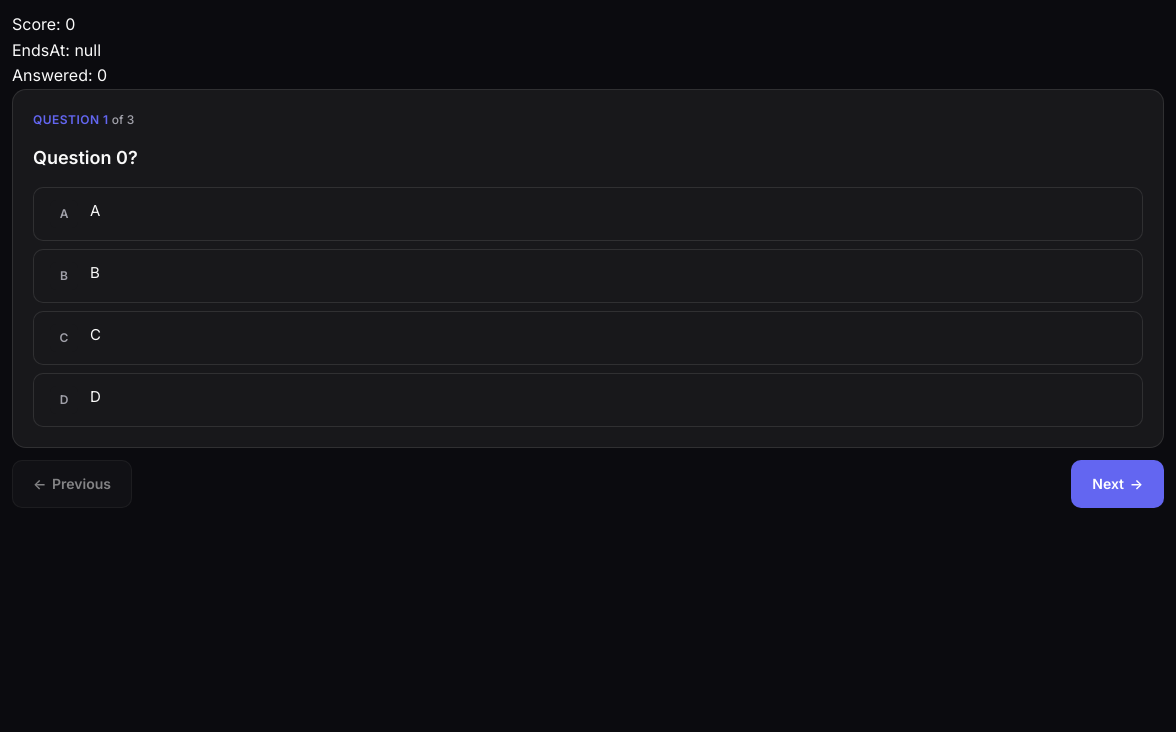
Test: useQuiz › keeps the answer and the verdict across navigation
Check: the element showing "A A B B C C D D" is shown, box [33, 187, 1143, 427]
Click the radio button labelled "B B".
click(64, 276)  # box [33, 249, 1143, 303]
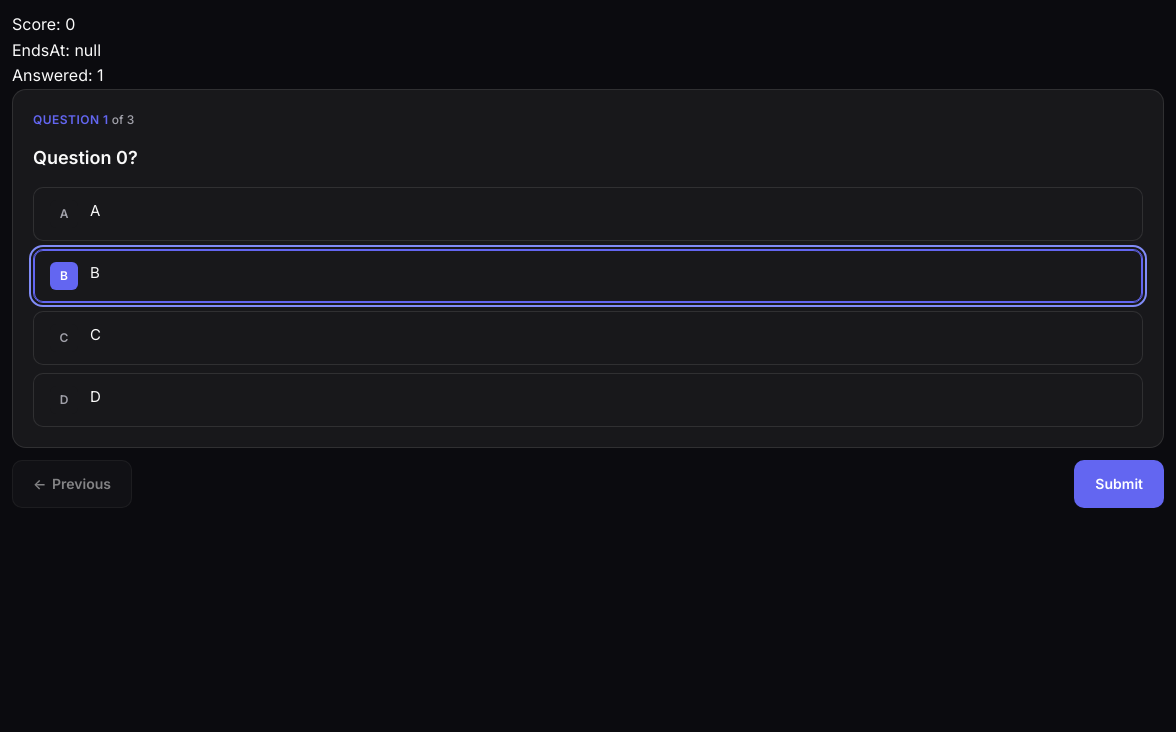
Click the button "Submit".
click(1119, 484)  # box [1074, 460, 1164, 508]
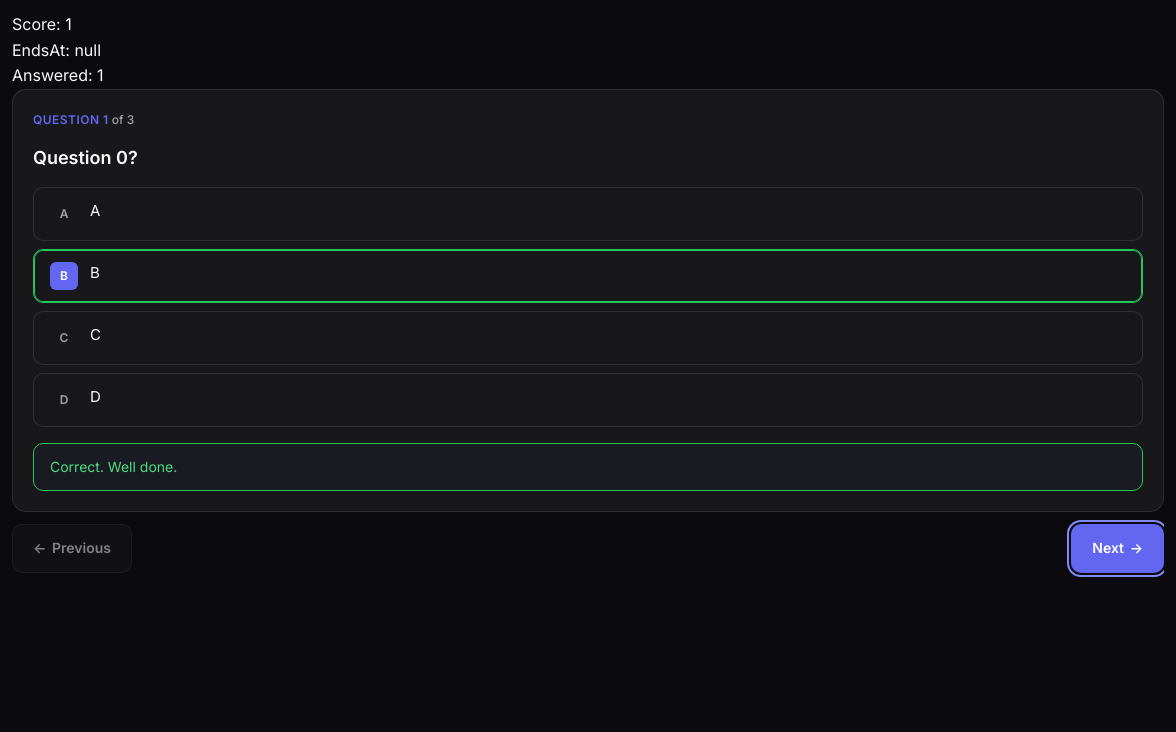
Click the button "Next →".
click(1118, 549)  # box [1071, 524, 1164, 573]
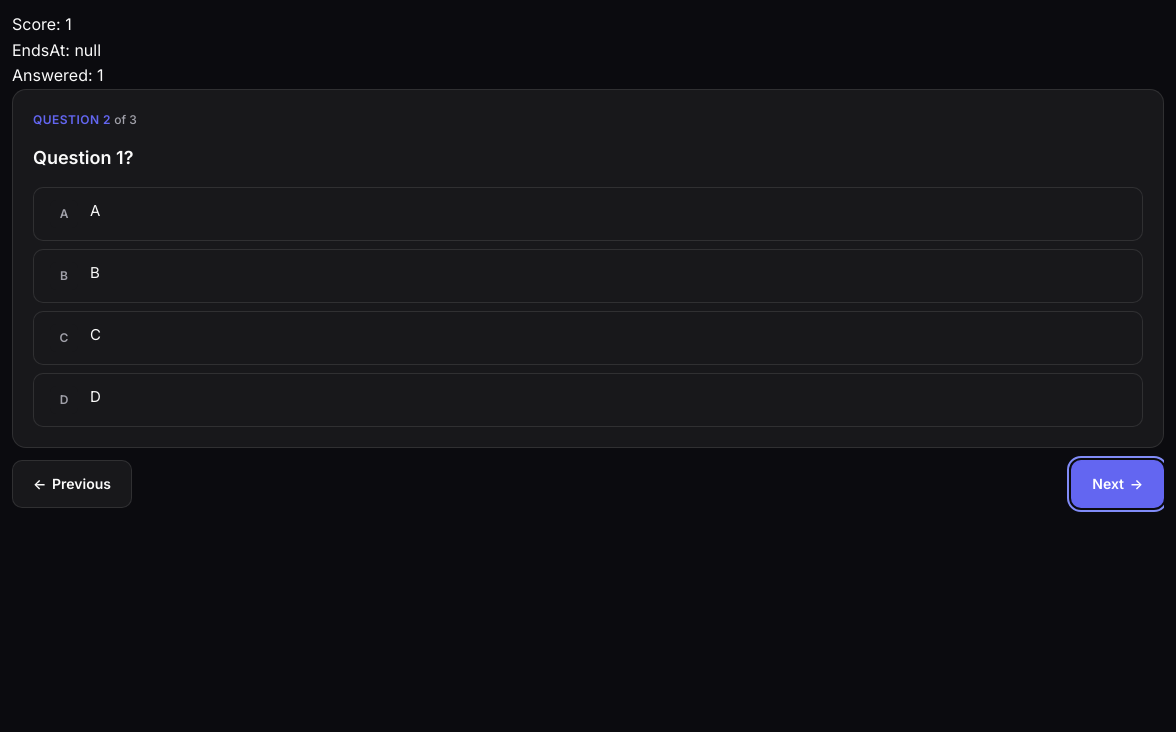
Check: the message "Correct. Well done." is gone
Click the button "← Previous".
click(72, 484)  # box [12, 460, 132, 508]
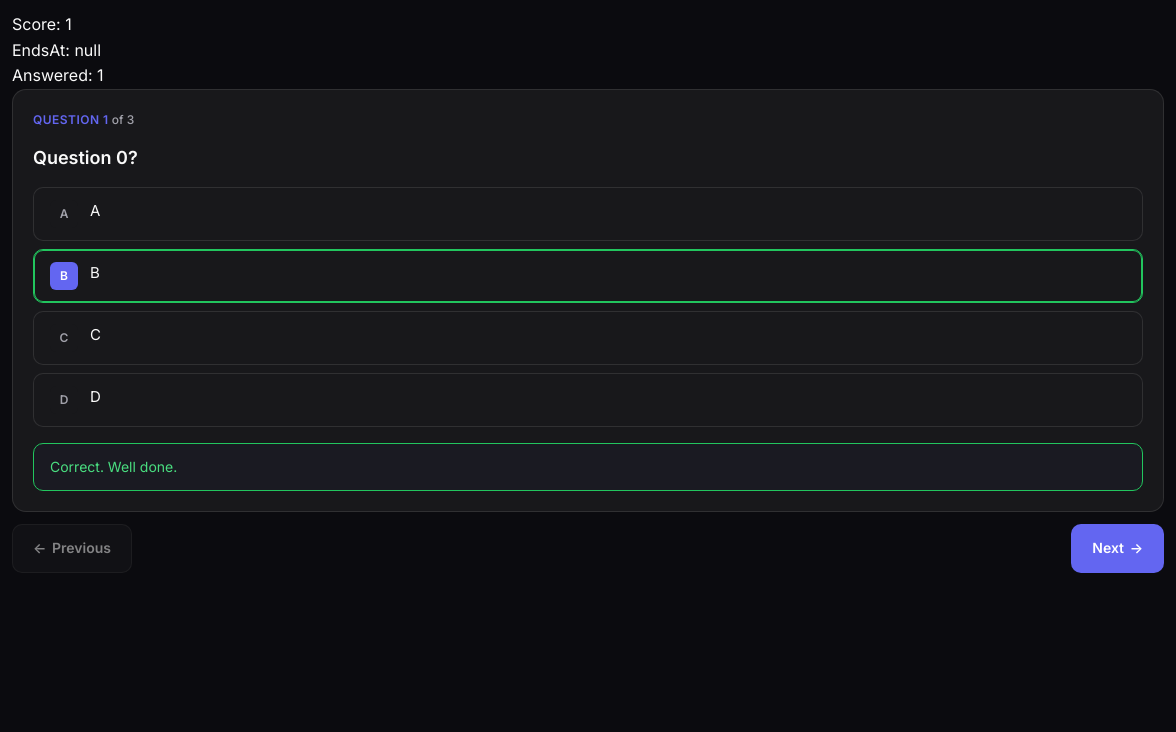
Check: the message does not show "Incorrect", box [33, 443, 1143, 492]
Check: the radio button labelled "B B" is checked, box [33, 249, 1143, 303]
Check: the message shows "Correct", box [50, 458, 177, 475]
